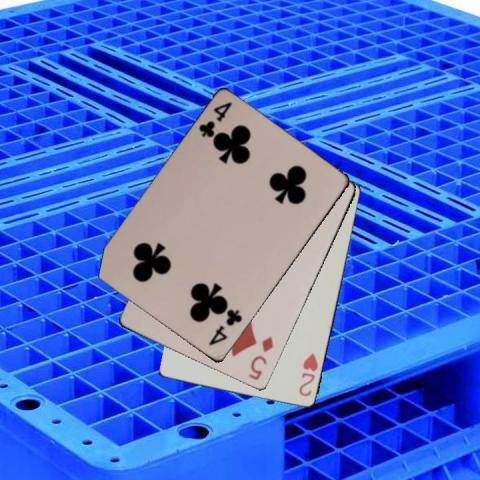2h: (296, 350, 320, 398)
4c: (195, 99, 234, 140), (205, 307, 244, 347)
5d: (245, 333, 275, 382)
